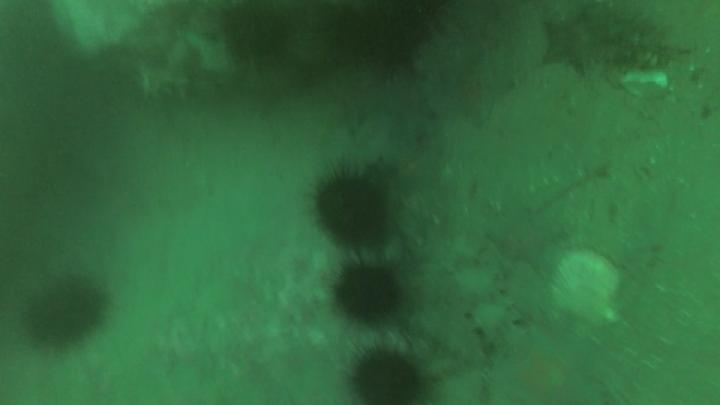echinus: (316, 175, 390, 246), (30, 283, 105, 350), (337, 265, 398, 322), (357, 354, 415, 405)
holothurian: (524, 163, 589, 211)
scallop: (548, 251, 620, 329)
starfish: (543, 19, 607, 79)
